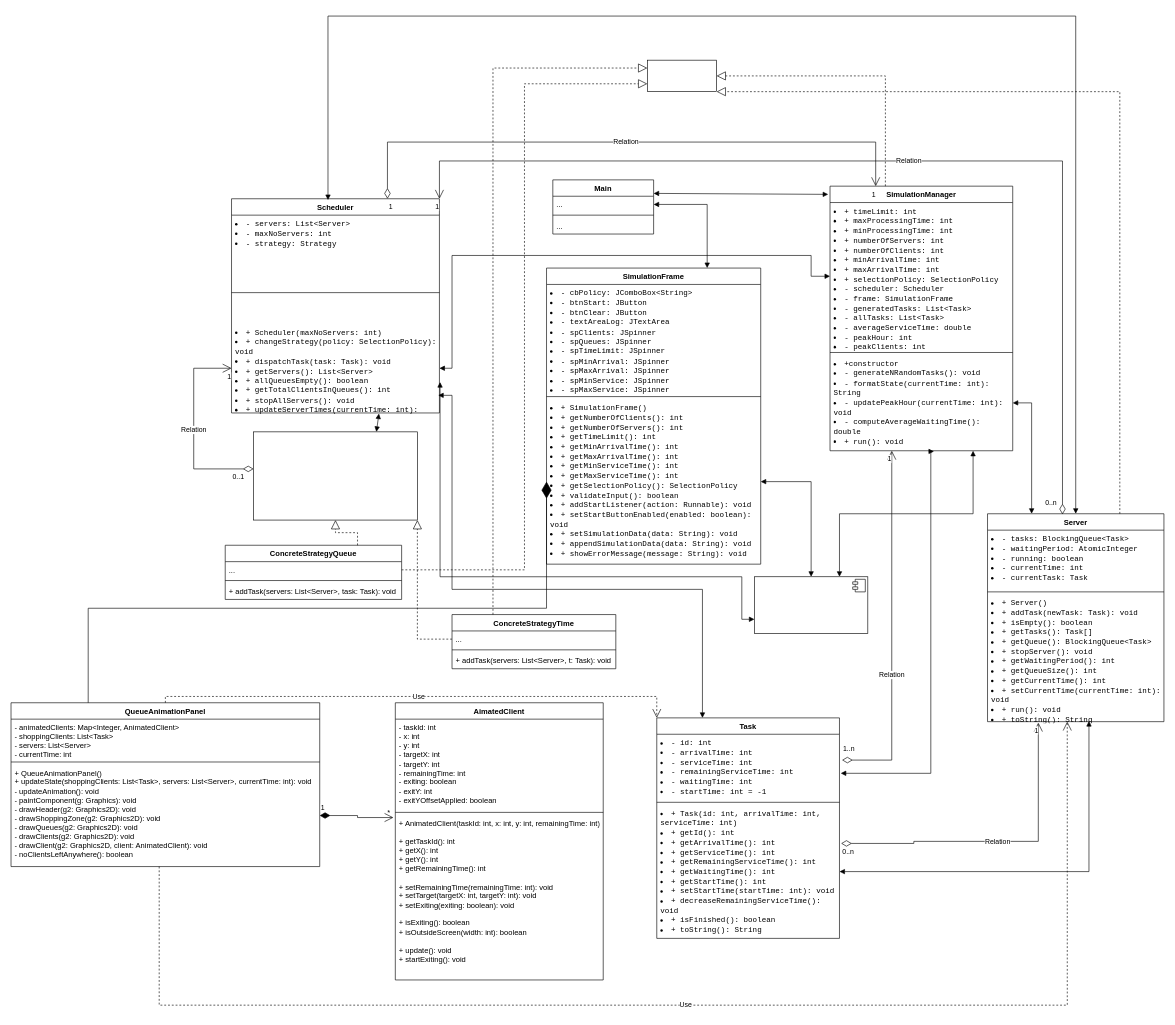
The diagram is 1175 pixels wide and 1025 high, and some of its shapes have lost their labels. The centre of each missing label's shape, as x and y in pixels:
<<Interface>> Strategy + ... + addTask(servers: List<Server>, t: Task): void: pixel 335 475
SelectionPolicy SHORTEST_QUEUE SHORTEST_TIME: pixel 811 604
«interface» Runnable: pixel 682 76
